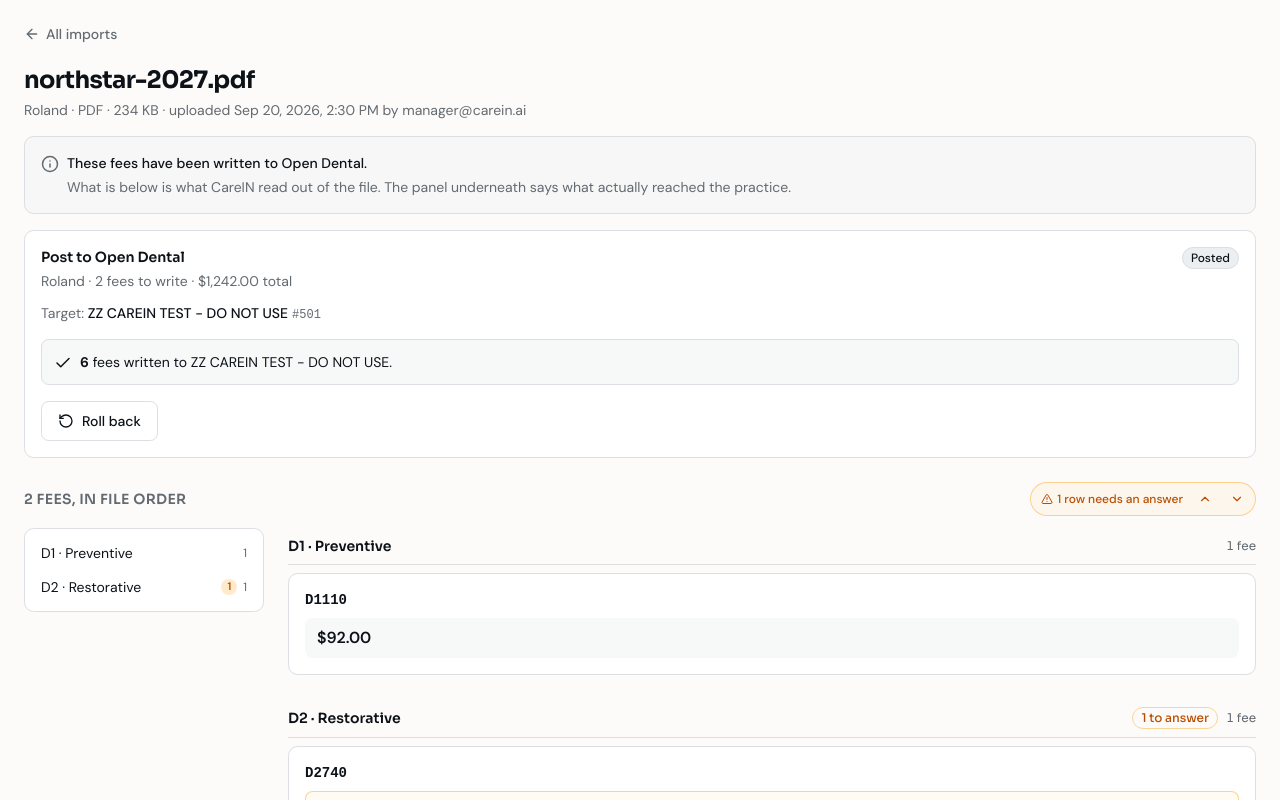
Test: rollback › THE THIRD STAR: the confirm says a NEW schedule cannot be deleted, before the click
This screenshot has width=1280, height=800.
Step 1. Click the button with test id "fees-rollback-button" → (99, 421), box [41,401,158,441]
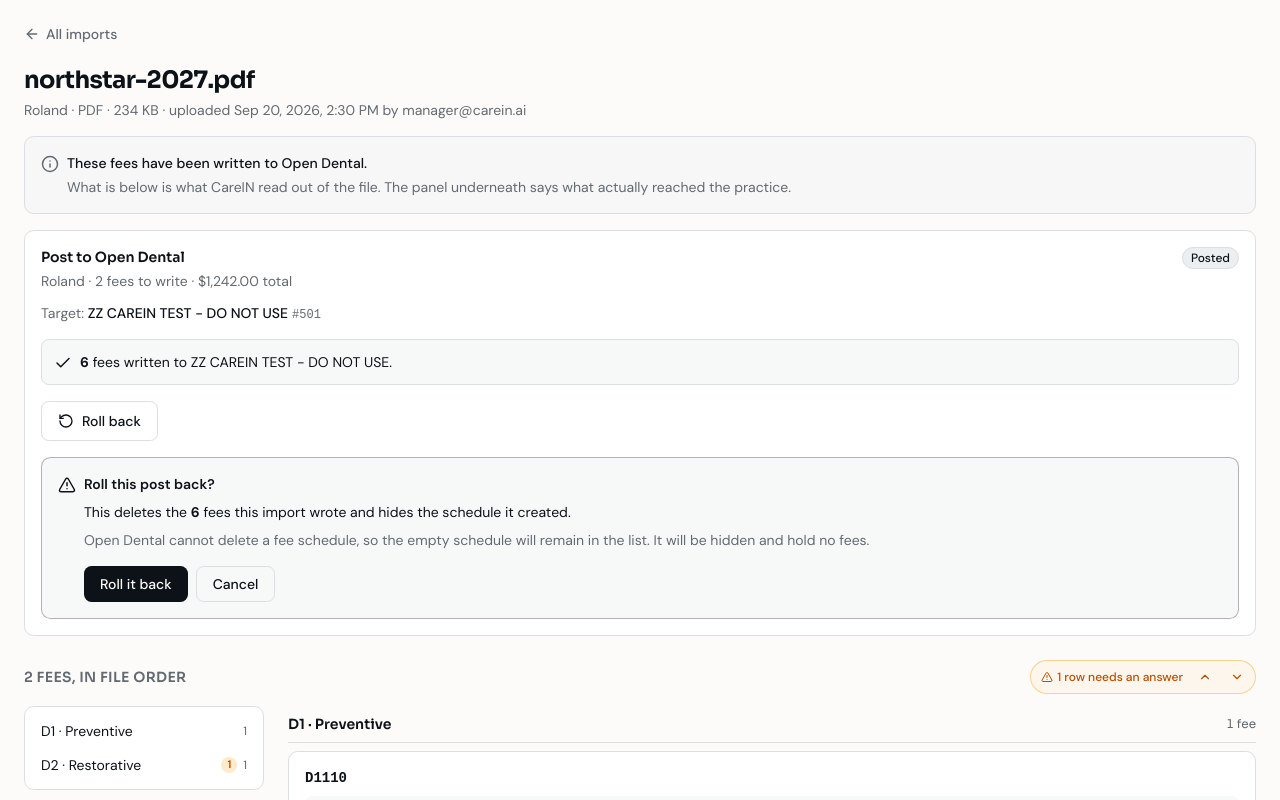
Check: the dialog with test id "fees-rollback-confirm" shows "deletes the 6 fees", box [41,457,1239,619]
Check: the dialog with test id "fees-rollback-confirm" shows "hides the schedule it created", box [346,503,571,521]
Check: the text with test id "fees-rollback-new-caveat" shows "cannot delete a fee schedule", box [84,531,869,549]
